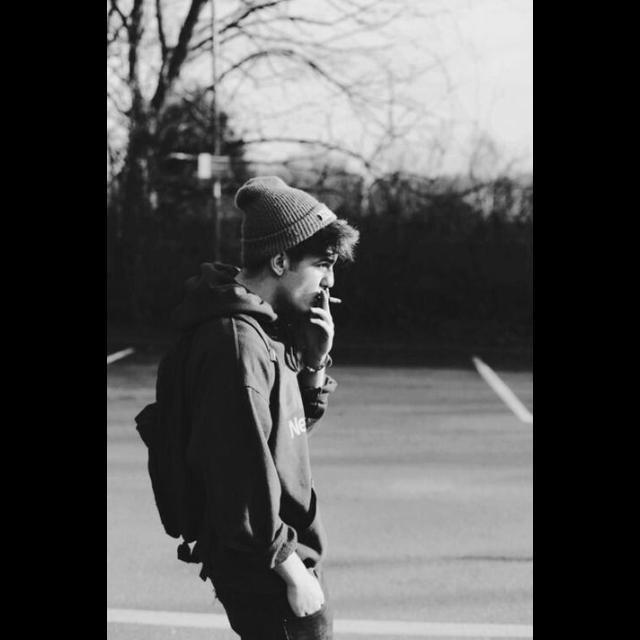rokok: (321, 290, 345, 306)
